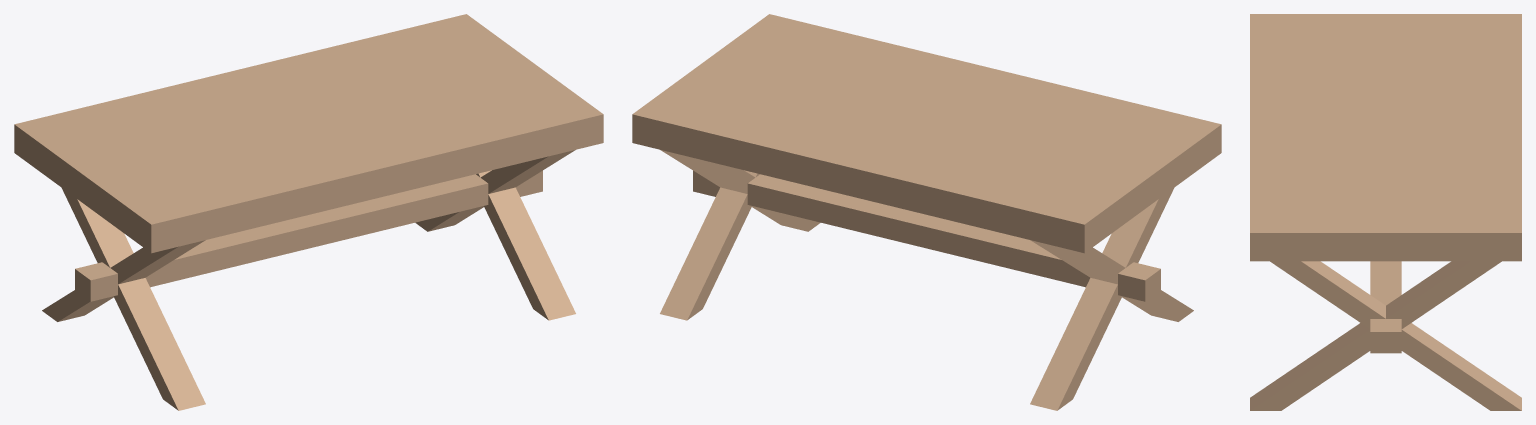
Rendered from tableCross.glb.
3 renders of one model, left to right at view 1: azimuth 30°, elevation 25°; view 2: azimuth 150°, elevation 25°; view 3: azimuth 270°, elevation 25°, orthographic.
Parts seen in each view (by area): view 1: tableCross; view 2: tableCross; view 3: tableCross.
Boxes of the visible parts, x1,y1,x2,y2 form: tableCross: (14, 14, 603, 410); tableCross: (632, 14, 1221, 410); tableCross: (1250, 14, 1521, 410).
Bounding box in the file's own units: 0.8521 × 0.3474 × 0.4474.
